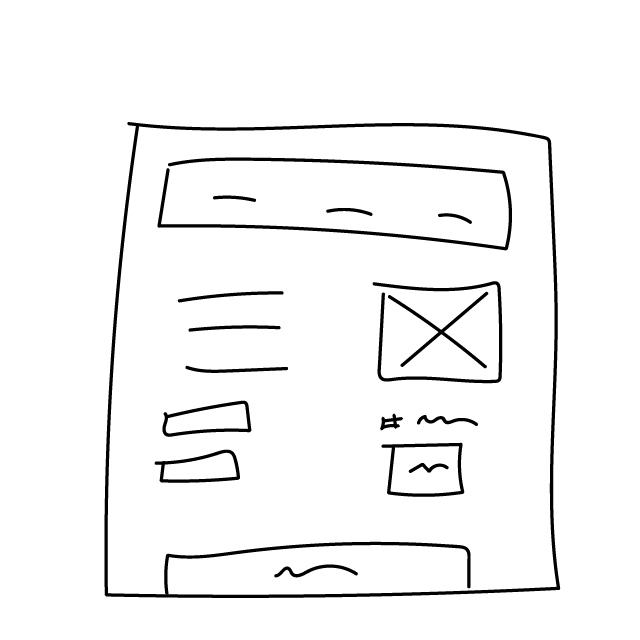button: (376, 443, 471, 501)
container: (92, 109, 589, 606)
footer: (158, 538, 477, 599)
frame: (368, 277, 512, 389)
heading: (373, 409, 485, 438)
input: (156, 400, 257, 441), (153, 449, 252, 485)
nav: (153, 155, 515, 256)
text: (177, 285, 302, 382)
